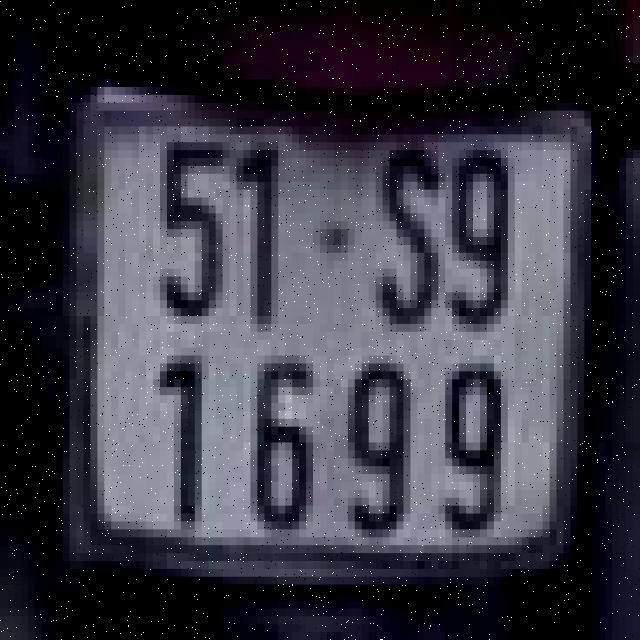1: (230, 126, 292, 340), (143, 344, 212, 533)
5: (153, 134, 230, 324)
6: (250, 356, 327, 545)
9: (438, 126, 515, 332), (344, 348, 414, 537), (438, 356, 508, 537)
S: (372, 138, 442, 336)
